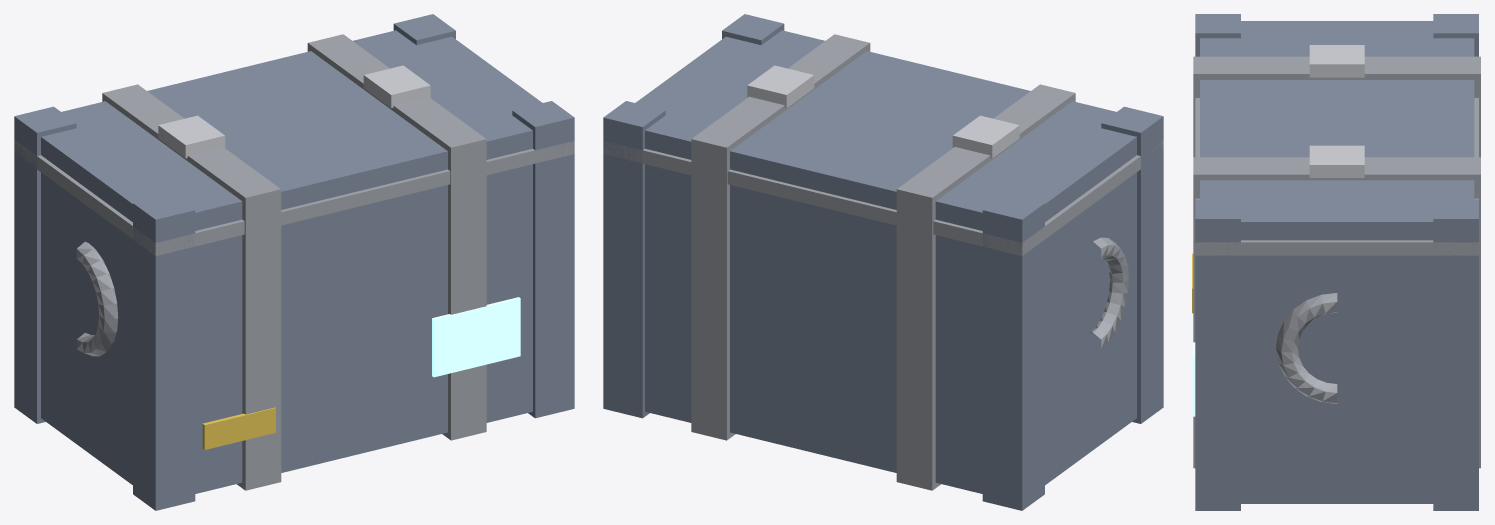
File: prop_stowage_bag.glb
The picture shows the model from 3 angles, left to right: view 1: azimuth 30°, elevation 25°; view 2: azimuth 150°, elevation 25°; view 3: azimuth 270°, elevation 25°; orthographic projection.
Parts seen in each view (by area): view 1: prop_stowage_bag; view 2: prop_stowage_bag; view 3: prop_stowage_bag.
Part boxes in pixels (left/top/right/bottom): prop_stowage_bag: left=14, top=14, right=574, bottom=510; prop_stowage_bag: left=603, top=14, right=1163, bottom=510; prop_stowage_bag: left=1192, top=14, right=1480, bottom=510.
Bounding box in the file's own units: 0.5508 × 0.367 × 0.3155.
